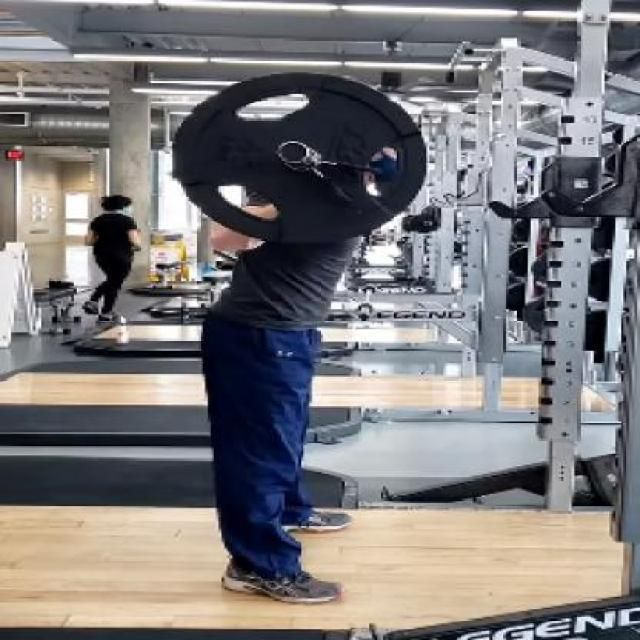Barbell: (270, 135, 316, 168)
